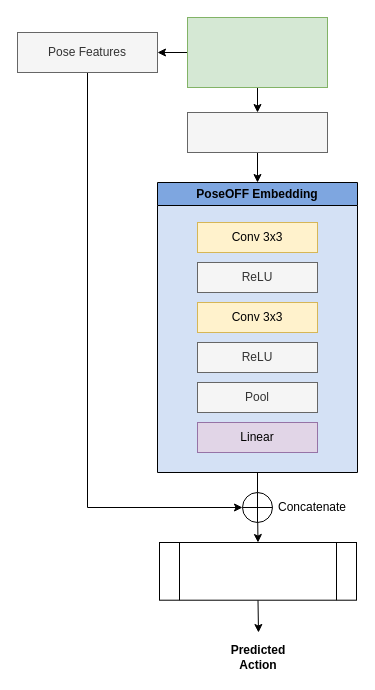
Some shapes in this 375 by 690 pixel diagram are drawn without their labels. Each missing label, with the centre of its shape:
"Flow Window Features" belongs at (x=257, y=132).
"Original Skeleton Model" belongs at (x=257, y=571).
"PoseOFF Features" belongs at (x=257, y=52).
